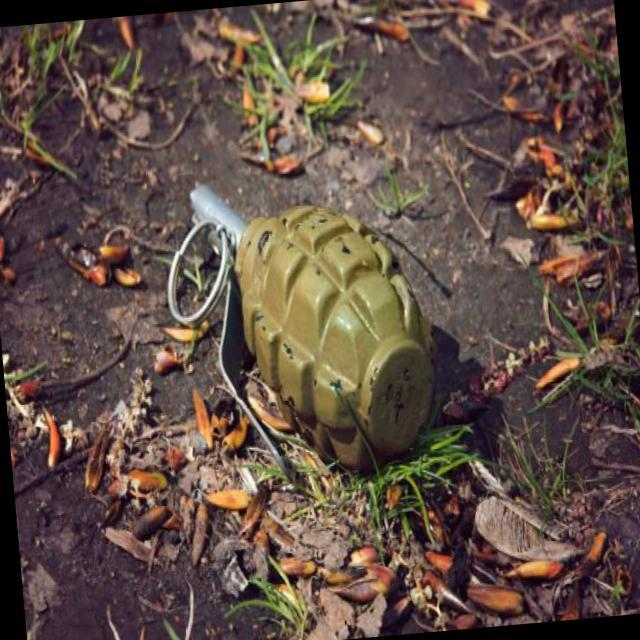grenade: (154, 158, 440, 464)
